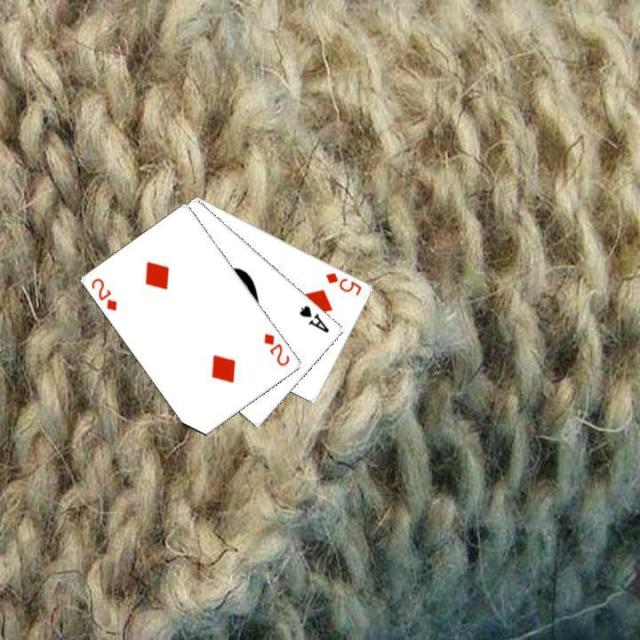2D: (260, 329, 292, 368), (87, 274, 119, 313)
5D: (322, 268, 364, 297)
AS: (296, 302, 332, 334)
